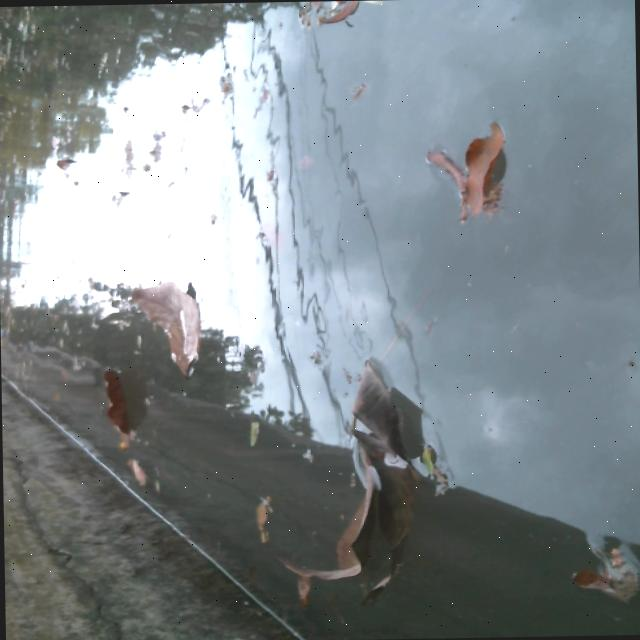Big-leaf: (309, 447, 378, 586), (349, 358, 418, 468), (124, 277, 204, 370), (95, 363, 141, 452)
Small-leaf: (461, 120, 504, 212), (571, 546, 640, 603), (424, 144, 467, 201), (306, 0, 366, 34), (249, 490, 276, 547), (120, 455, 158, 489), (340, 79, 372, 102), (52, 151, 78, 173), (245, 419, 265, 447), (295, 153, 314, 170)
